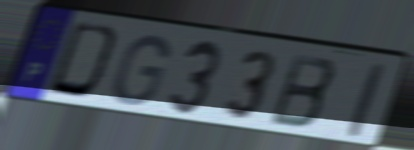3: (166, 38, 225, 117), (222, 49, 277, 122)
B: (266, 51, 339, 132)
D: (44, 19, 125, 104)
G: (111, 33, 172, 108)
I: (345, 59, 389, 141)
